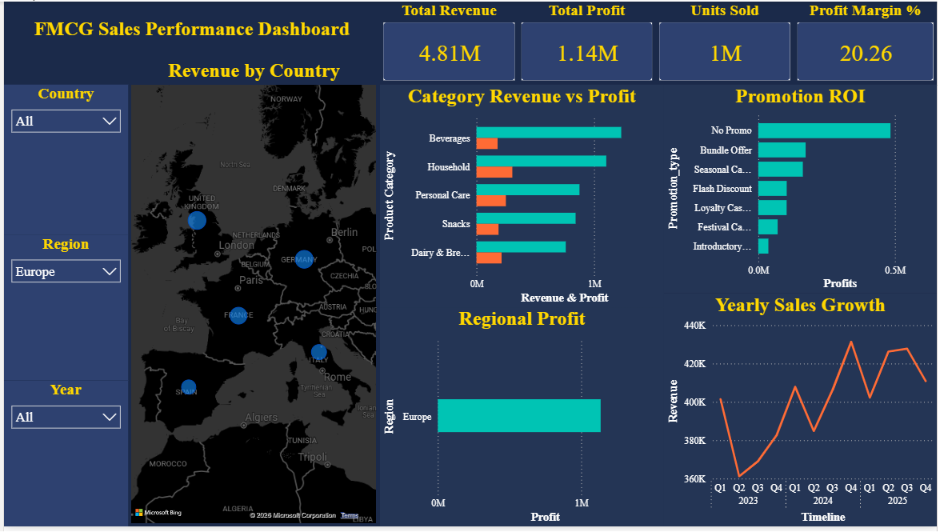

This screenshot's page, from the dashboard's own definition file:
{"tool":"powerbi","page":{"name":"Page 1","canvas":[1280,720],"ordinal":0},"visuals":[{"type":"barChart","title":"Regional Profit","fields":{"Category":["public fmcg_sales.region"],"Y":["Sum(public fmcg_sales.profit_usd)"]},"box":[516,419.9,389.7,300.5],"z":0},{"type":"lineChart","title":"Yearly Sales Growth","fields":{"Y":["Sum(public fmcg_sales.net_revenue_usd)"],"Category":["public fmcg_sales.year","public fmcg_sales.quarter"]},"box":[905.7,400.7,374.6,319.7],"z":1000},{"type":"clusteredBarChart","title":"Category Revenue vs Profit","fields":{"Category":["public fmcg_sales.product_category"],"Y":["Sum(public fmcg_sales.net_revenue_usd)","Sum(public fmcg_sales.profit_usd)"]},"box":[516,113.9,389.7,306],"z":2000},{"type":"map","title":"Revenue by Country","fields":{"Category":["public fmcg_sales.country"],"Size":["Sum(public fmcg_sales.net_revenue_usd)"]},"box":[170.2,79.6,345.8,640.8],"z":3000},{"type":"barChart","title":"Promotion ROI","fields":{"Category":["public fmcg_sales.promotion_type"],"Y":["Sum(public fmcg_sales.profit_usd)"]},"box":[905.7,113.9,374.6,286.8],"z":4000},{"type":"textbox","box":[0,0,516,79.6],"z":5000},{"type":"slicer","title":"Country","fields":{"Values":["public fmcg_sales.country"]},"box":[0,113.9,170.2,205.8],"z":6000},{"type":"slicer","title":"Region","fields":{"Values":["public fmcg_sales.region"]},"box":[0,319.7,170.2,200.3],"z":7000},{"type":"slicer","title":"Year","fields":{"Values":["public fmcg_sales.year"]},"box":[0,520.1,170.2,200.3],"z":8000},{"type":"cardVisual","title":"Total Revenue","fields":{"Data":["Sum(public fmcg_sales.net_revenue_usd)"]},"box":[516,0,190,113.9],"z":8001},{"type":"cardVisual","title":"Total Profit","fields":{"Data":["Sum(public fmcg_sales.profit_usd)"]},"box":[705.3,0,189.4,113.9],"z":8002},{"type":"cardVisual","title":"Units Sold","fields":{"Data":["Sum(public fmcg_sales.units_sold)"]},"box":[894.7,0,189.4,113.9],"z":8003},{"type":"cardVisual","title":"Profit Margin %","fields":{"Data":["Avg(public fmcg_sales.profit_margin_pct)"]},"box":[1084.1,0,196.2,113.9],"z":8004}]}

Visuals, with their boxes in screenshot pixels (x1, y1, x2, y2), scaled from the page's 1280x720 canvas onto the 938x532 screenshot:
"Regional Profit" barChart: Rect(378, 310, 664, 531)
"Yearly Sales Growth" lineChart: Rect(664, 296, 937, 531)
"Category Revenue vs Profit" clusteredBarChart: Rect(378, 84, 664, 310)
"Revenue by Country" map: Rect(125, 59, 378, 531)
"Promotion ROI" barChart: Rect(664, 84, 937, 296)
textbox: Rect(0, 0, 378, 59)
"Country" slicer: Rect(0, 84, 125, 236)
"Region" slicer: Rect(0, 236, 125, 384)
"Year" slicer: Rect(0, 384, 125, 531)
"Total Revenue" cardVisual: Rect(378, 0, 517, 84)
"Total Profit" cardVisual: Rect(517, 0, 656, 84)
"Units Sold" cardVisual: Rect(656, 0, 794, 84)
"Profit Margin %" cardVisual: Rect(794, 0, 937, 84)
